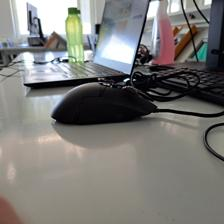bottle: (64, 6, 84, 62)
mouse: (49, 82, 157, 126)
